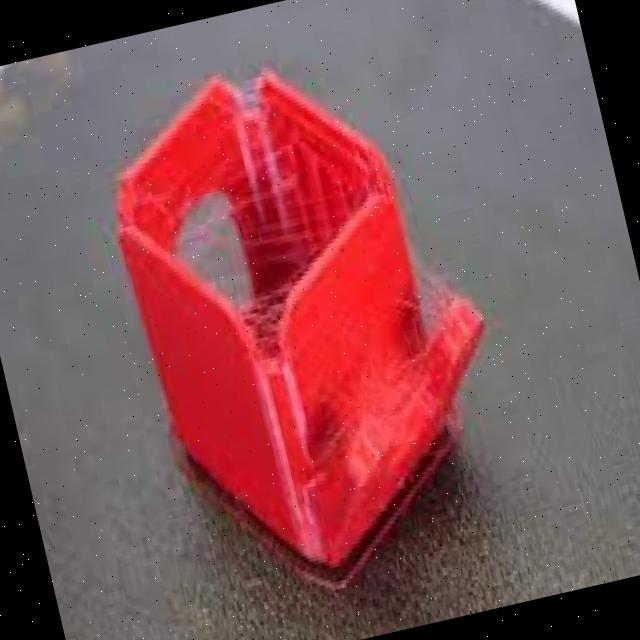stringing: (173, 89, 327, 351), (415, 260, 452, 338)
